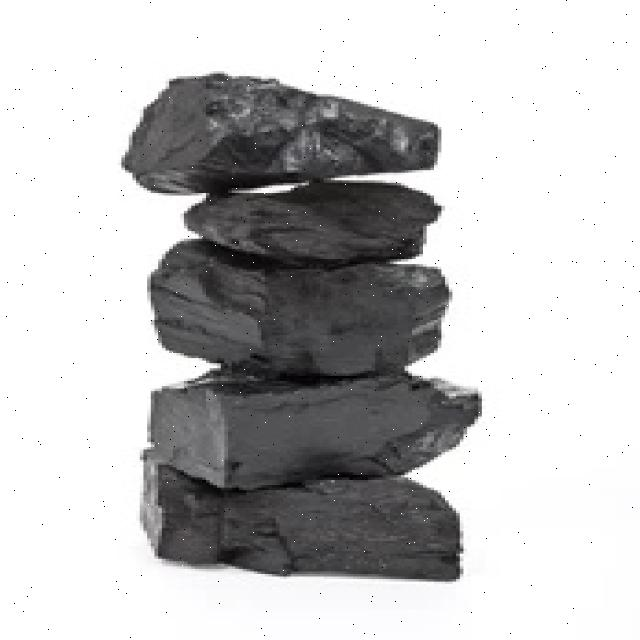Sedimentary: (114, 66, 486, 589)
